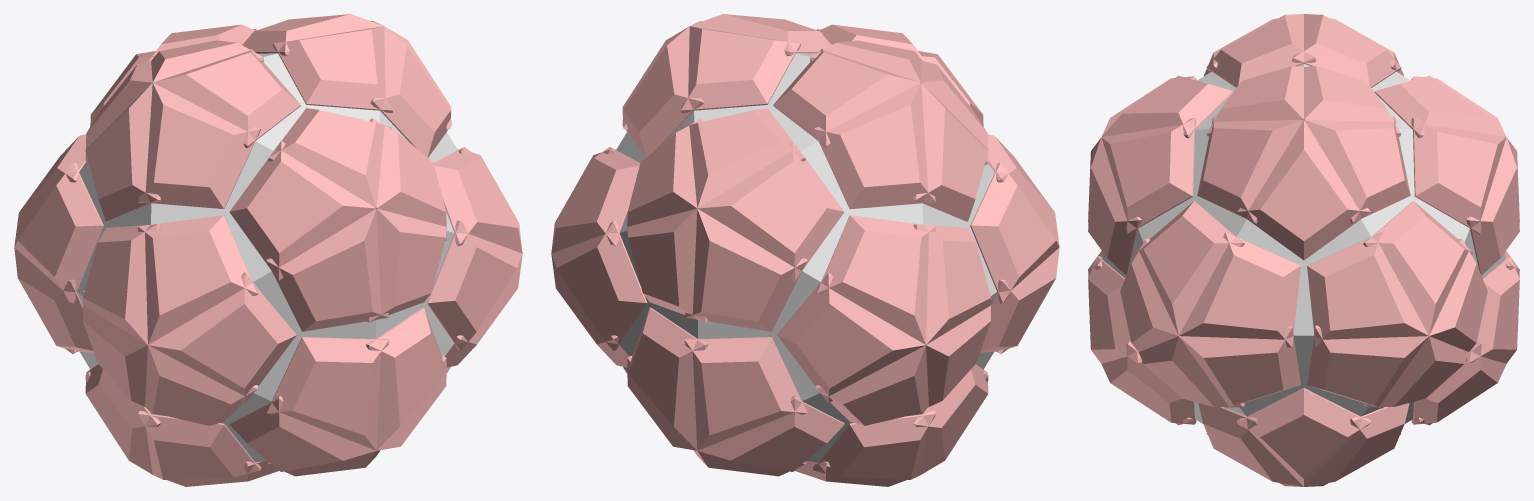
File: asu_capside.glb
3 views of the same model, side by side, from view 1: azimuth 30°, elevation 25°; view 2: azimuth 150°, elevation 25°; view 3: azimuth 270°, elevation 25° (orthographic). The views are drawn at different scales.
Visible parts, largest first — view 1: Cylinder_1_2_5 0 (×12), Cylinder_1_2_5 1 (×10), Cylinder_1_2_5 2 (×12), Platonic; view 2: Cylinder_1_2_5 0 (×11), Cylinder_1_2_5 2 (×11), Cylinder_1_2_5 1 (×12), Platonic; view 3: Cylinder_1_2_5 1 (×10), Cylinder_1_2_5 2 (×10), Cylinder_1_2_5 0 (×10), Platonic.
Part boxes in pixels (x1,y1,x2,y2): Cylinder_1_2_5 0 (×12): (83, 26, 522, 476); Cylinder_1_2_5 1 (×10): (14, 24, 522, 479); Cylinder_1_2_5 2 (×12): (14, 14, 446, 486); Platonic: (77, 53, 457, 462); Cylinder_1_2_5 0 (×11): (551, 14, 1059, 450); Cylinder_1_2_5 2 (×11): (551, 26, 990, 486); Cylinder_1_2_5 1 (×12): (627, 24, 1059, 479); Platonic: (616, 53, 996, 462); Cylinder_1_2_5 1 (×10): (1102, 75, 1519, 486); Cylinder_1_2_5 2 (×10): (1088, 14, 1519, 486); Cylinder_1_2_5 0 (×10): (1088, 14, 1487, 408); Platonic: (1102, 64, 1505, 423).
Bounding box in the file's own units: 183 × 183 × 183.
